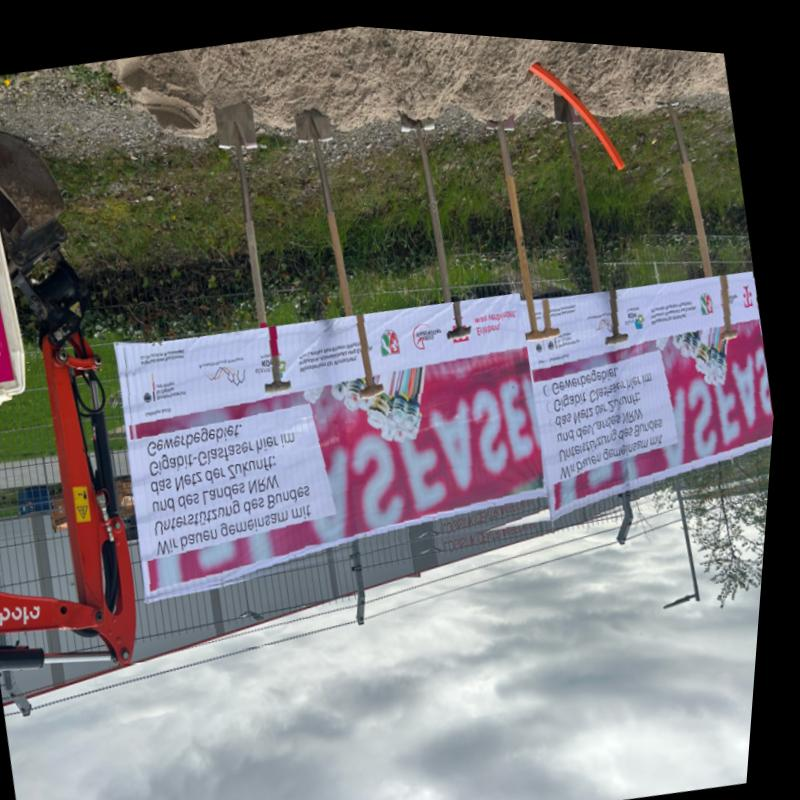Banner: (127, 285, 554, 595), (542, 259, 779, 515)
